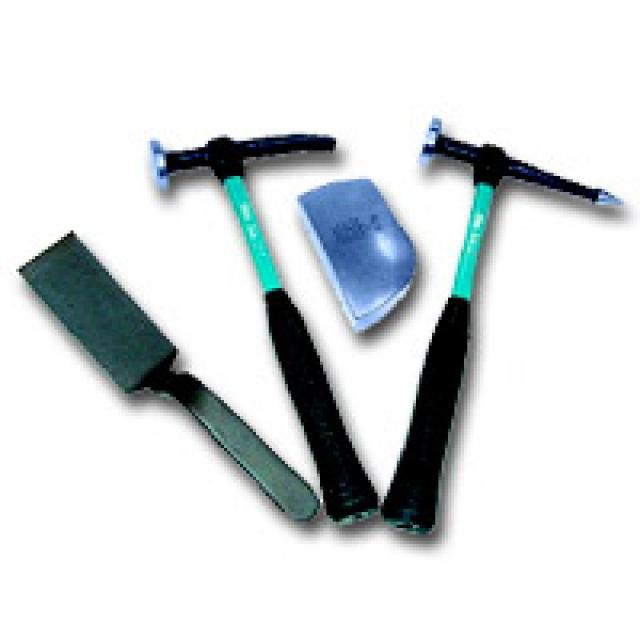hammer: (146, 125, 401, 522), (412, 105, 628, 563)
